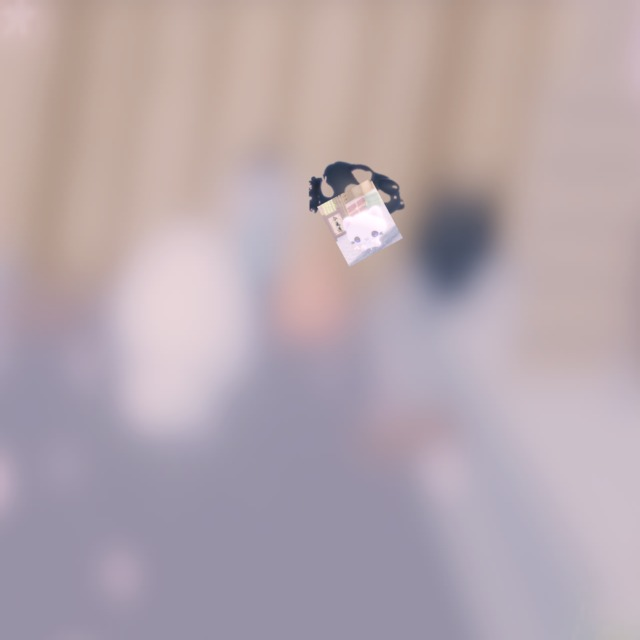urso_branco: (317, 178, 403, 267)
urso_preto: (308, 156, 412, 238)
